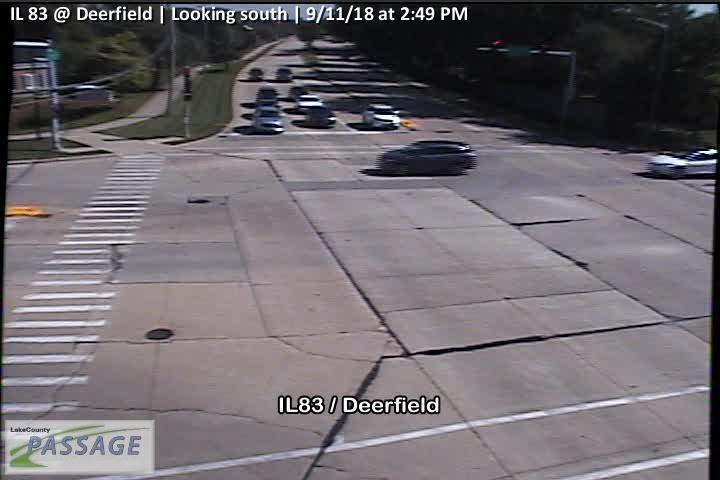SUV: (378, 141, 478, 177), (363, 104, 402, 131), (253, 108, 287, 135), (256, 86, 279, 110)
Sedan: (644, 147, 717, 178), (305, 106, 337, 130), (295, 95, 325, 113)
